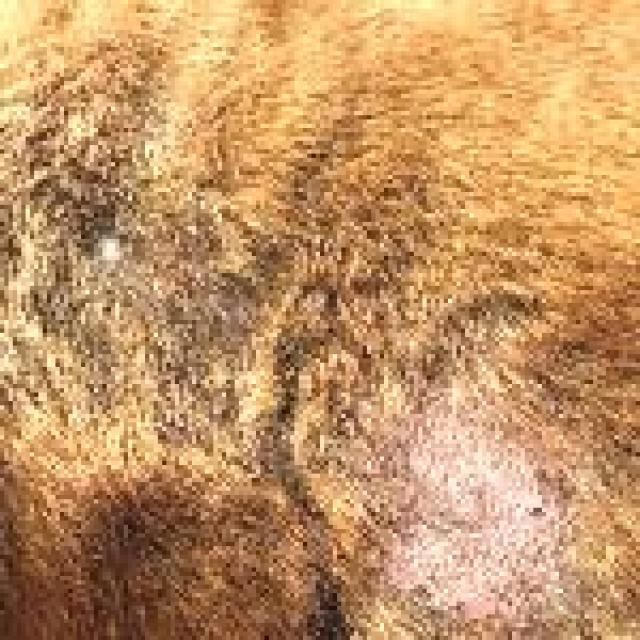fungal infection: (388, 387, 583, 617)
